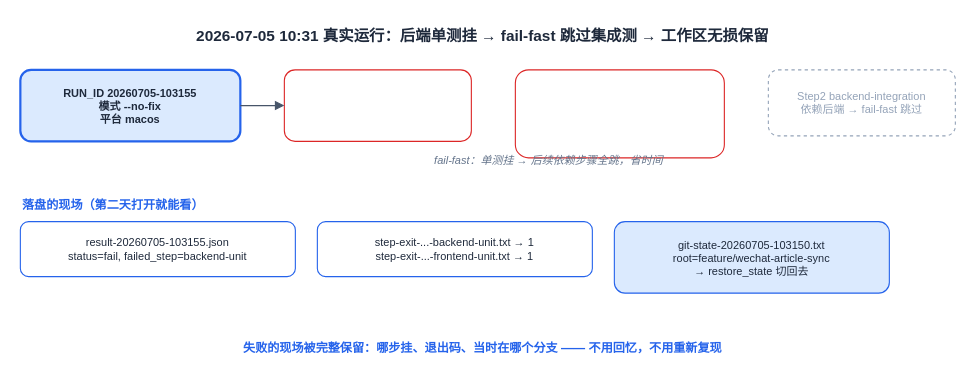
Some shapes in this 975 by 391 pixel diagram are drawn without their labels. Here are the shapes that lost their labels. From the top down, the centre of each, then its label:
At pixel 377 105: "Step1 backend-unit mvn -q test exit=1 ❌".
At pixel 619 113: "Step3 frontend-unit（并行） pnpm test exit=1 ❌ （并行已跑完）".
